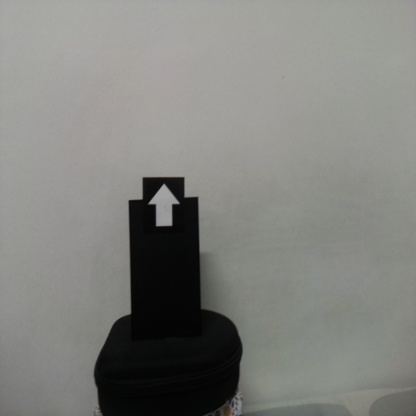id_1: (142, 177, 185, 237)
